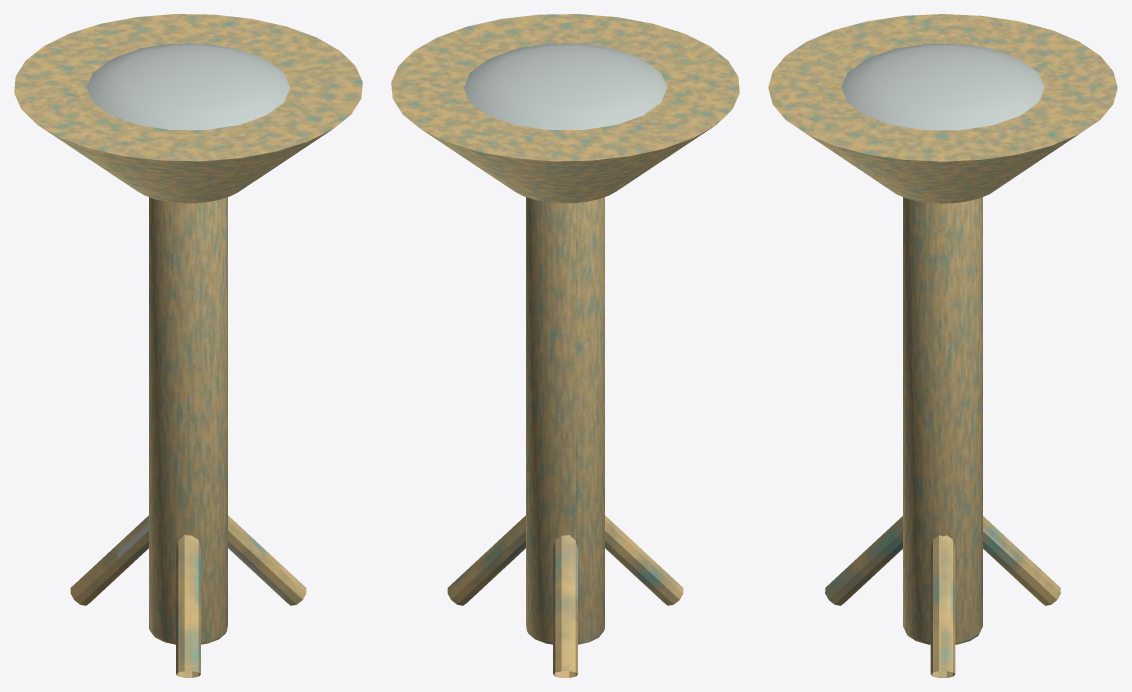
Rendered from brazier.glb.
3 renders of one model, left to right at view 1: azimuth 30°, elevation 25°; view 2: azimuth 150°, elevation 25°; view 3: azimuth 270°, elevation 25°, orthographic.
Parts seen in each view (by area): view 1: bowl, pedestal, ember, leg2, leg0, leg1; view 2: bowl, pedestal, ember, leg1, leg0, leg2; view 3: bowl, pedestal, ember, leg0, leg1, leg2.
Part boxes in pixels (left/top/right/bottom): bowl: left=14, top=14, right=362, bottom=203; pedestal: left=149, top=197, right=227, bottom=644; ember: left=86, top=43, right=290, bottom=129; leg2: left=176, top=535, right=200, bottom=677; leg0: left=228, top=515, right=306, bottom=605; leg1: left=70, top=515, right=148, bottom=605; bowl: left=391, top=14, right=739, bottom=203; pedestal: left=526, top=197, right=604, bottom=644; ember: left=463, top=43, right=667, bottom=129; leg1: left=553, top=535, right=577, bottom=677; leg0: left=447, top=515, right=525, bottom=605; leg2: left=605, top=515, right=683, bottom=605; bowl: left=768, top=14, right=1117, bottom=203; pedestal: left=903, top=197, right=982, bottom=644; ember: left=841, top=43, right=1044, bottom=130; leg0: left=930, top=535, right=955, bottom=677; leg1: left=983, top=516, right=1060, bottom=605; leg2: left=825, top=516, right=902, bottom=605.
Size of the model in its own units: 0.7 by 1.24 by 0.7.
1 material, 1 textured.
